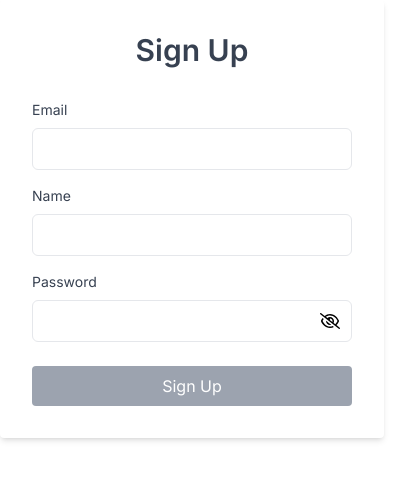
Scenario: Signupコンポーネント › パスワードが6文字未満の場合、エラーメッセージが表示され、Signupボタンを押せないこと
Type "test@example.com" into the field labelled "Email".
click(192, 149); type("test@example.com")  # box [32, 128, 352, 170]
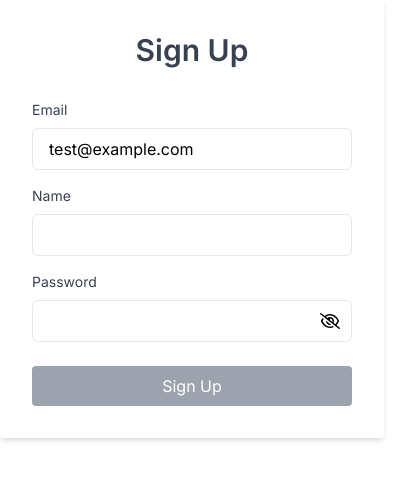
Type "testUser" into the field labelled "Name".
click(192, 235); type("testUser")  # box [32, 214, 352, 256]
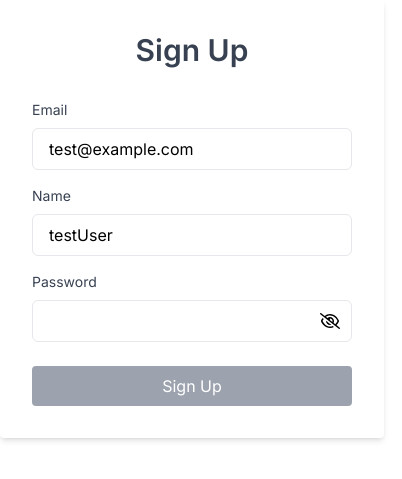
Type "pass" into the password field labelled "Password".
click(192, 321); type("pass")  # box [32, 300, 352, 342]
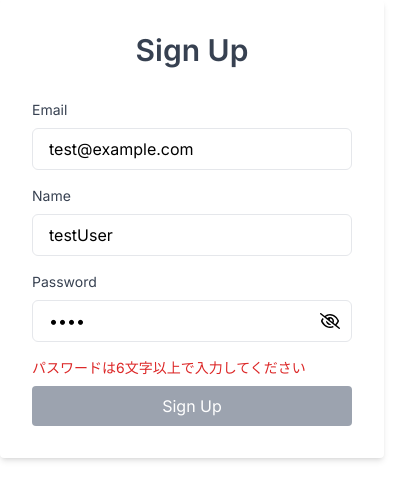
Expected: the button "Sign Up" is disabled, [32, 386, 352, 426]
Expected: the text "パスワードは6文字以上で入力してください" is shown, [32, 358, 352, 378]
